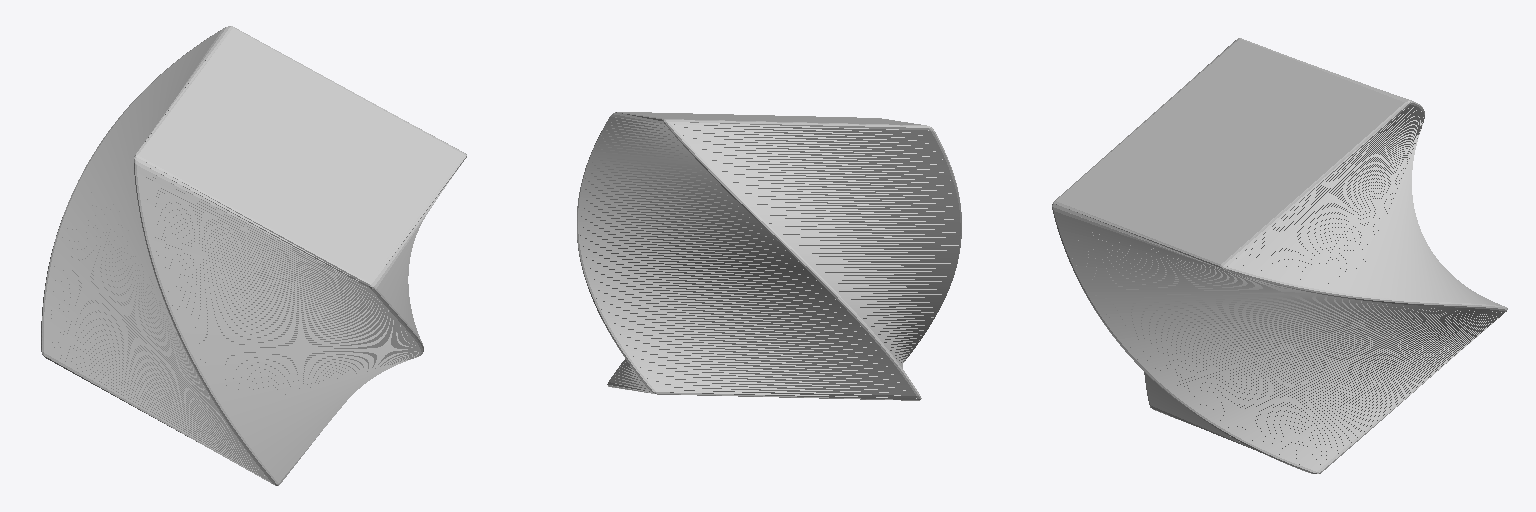
File: spiral.obj
3 renders of one model, left to right at view 1: azimuth 30°, elevation 25°; view 2: azimuth 150°, elevation 25°; view 3: azimuth 270°, elevation 25°, orthographic.
Visible parts, largest first — view 1: refraction_spiral; view 2: refraction_spiral; view 3: refraction_spiral.
Part boxes in pixels (bbox=[...]): refraction_spiral: bbox=[41, 26, 466, 485]; refraction_spiral: bbox=[577, 112, 961, 400]; refraction_spiral: bbox=[1052, 38, 1507, 473].
Bounding box in the file's own units: 13.7 × 12.37 × 14.73.